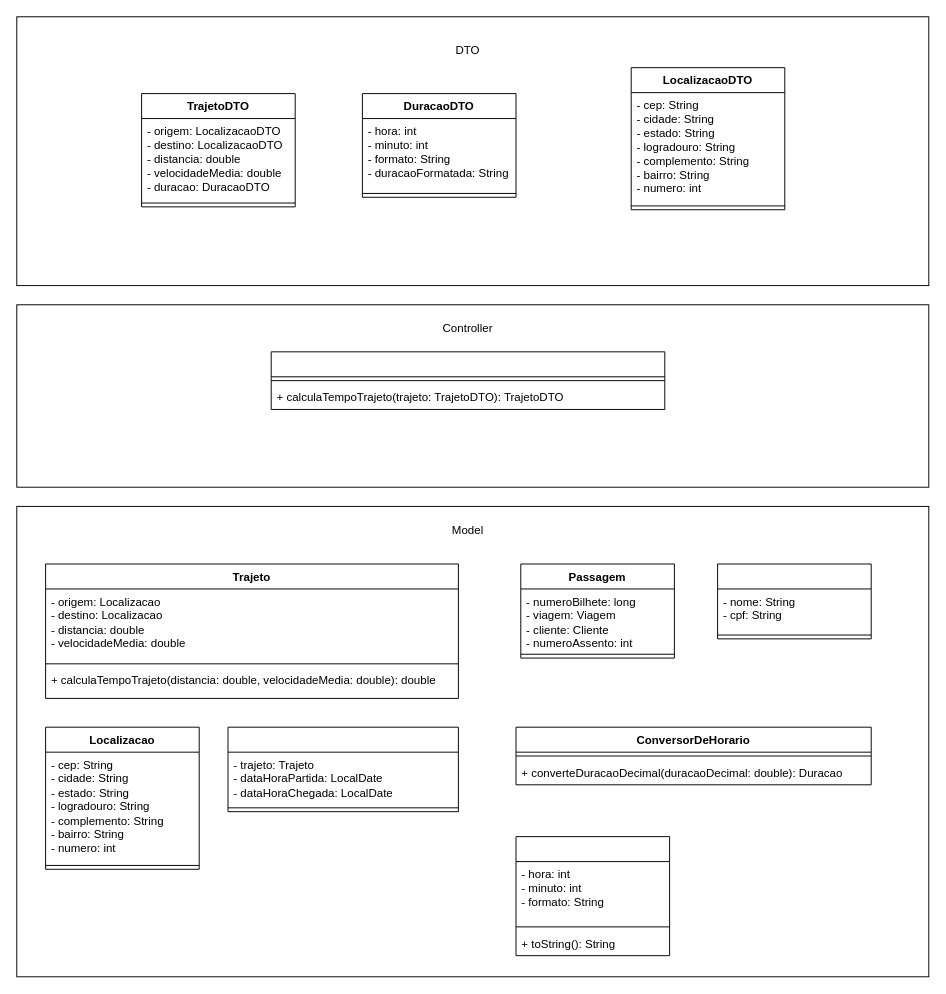
Some shapes in this 946 by 994 pixel diagram are drawn without their labels. Here are the shapes that lost their labels. From the top down, the box of each, then its label:
(270, 351, 665, 409): TrajetoController
(717, 563, 871, 639): Cliente
(227, 726, 458, 812): Viagem
(515, 836, 670, 956): Duracao
